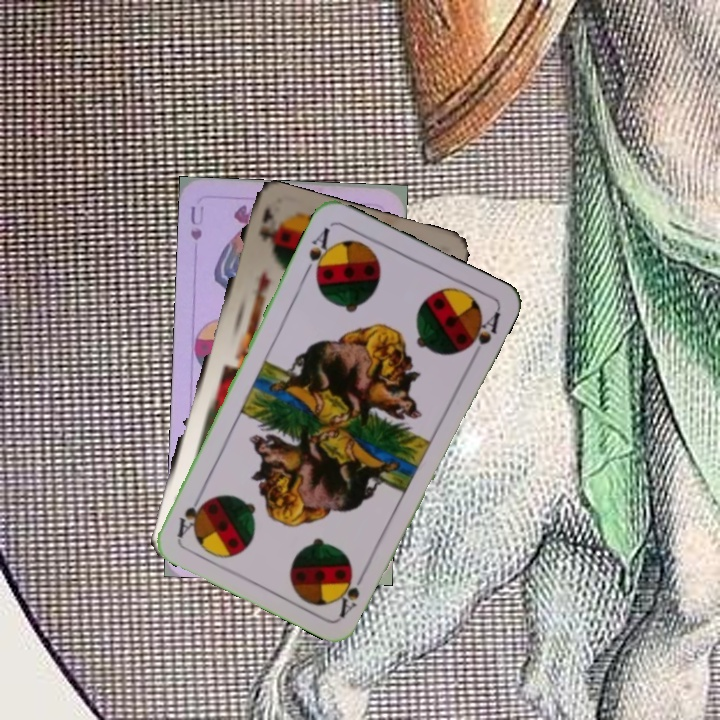SA: (300, 223, 335, 282), (335, 565, 370, 620)
SK: (255, 204, 276, 244)
SU: (186, 202, 206, 243)
